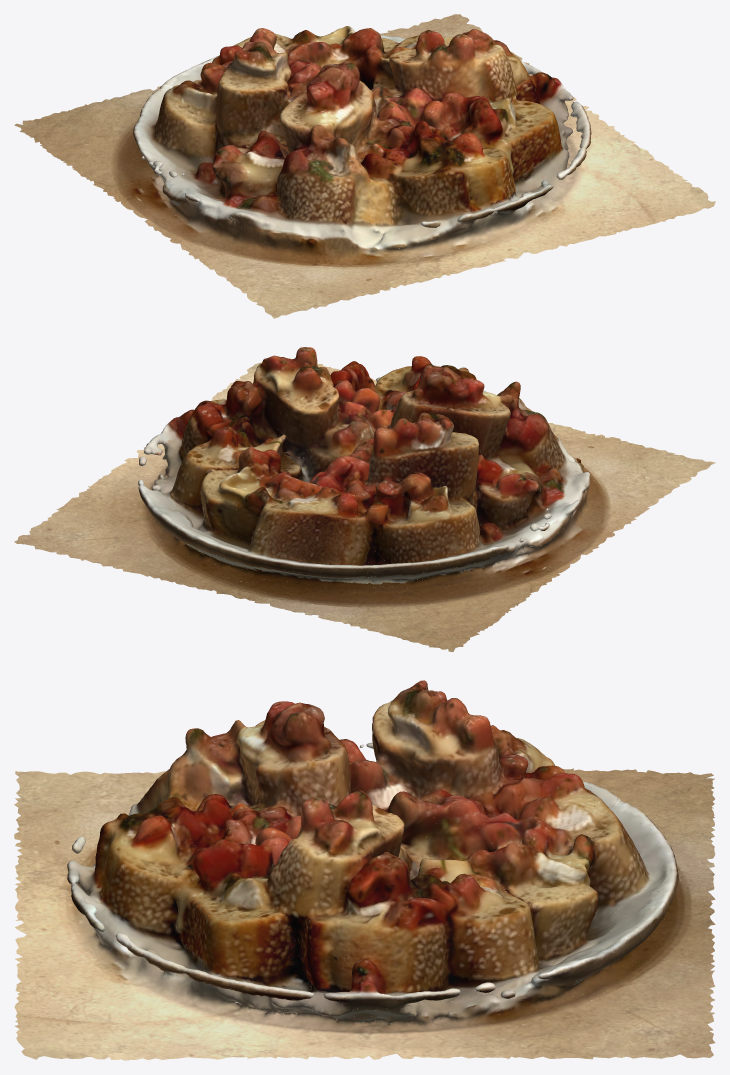
File: bruschetta.glb
3 renders of one model, top to bottom at view 1: azimuth 30°, elevation 25°; view 2: azimuth 150°, elevation 25°; view 3: azimuth 270°, elevation 25°, orthographic. The views are drawn at different scales.
Parts seen in each view (by area): view 1: model.001.1_0; view 2: model.001.1_0; view 3: model.001.1_0.
Part boxes in pixels (<box>): model.001.1_0: <box>14,14,715,318</box>; model.001.1_0: <box>14,347,715,651</box>; model.001.1_0: <box>14,680,715,1060</box>.
Size of the model in its own units: 395 by 112 by 403.
3 materials, 3 textured.
